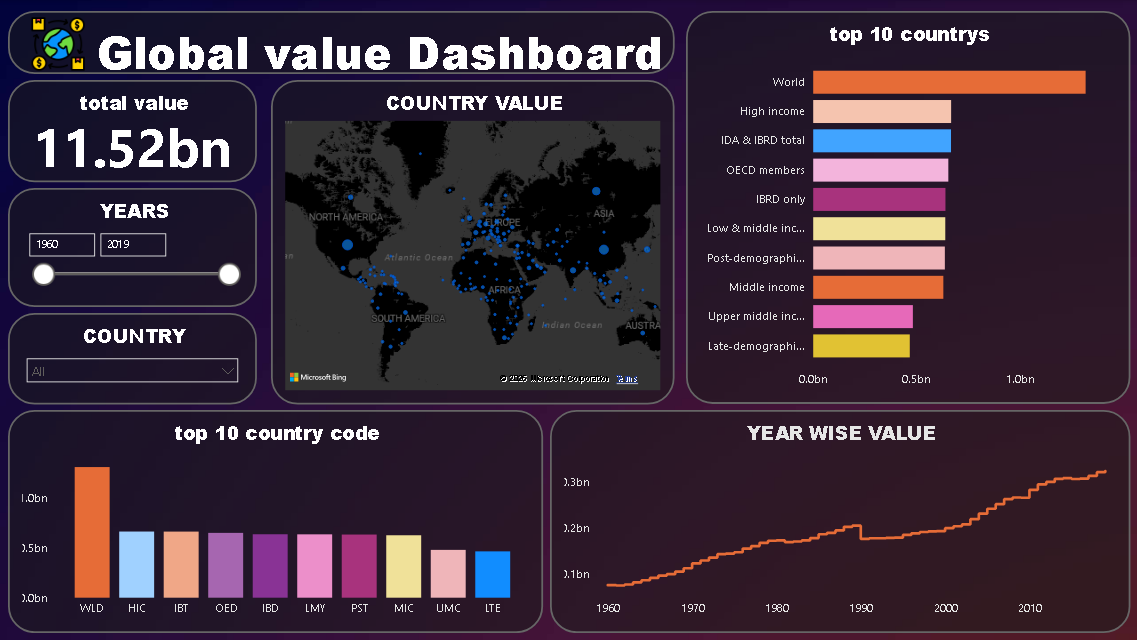

Layout of this report page (visuals, bound fields, positions):
{"tool":"powerbi","page":{"name":"Page 1","canvas":[1280,720],"ordinal":0},"visuals":[{"type":"textbox","title":"Global  value Dashboard","box":[10.2,12.7,749.6,71.4],"z":0},{"type":"slicer","title":"YEARS","fields":{"Values":["globel.year.Variation.Date Hierarchy.Year"]},"box":[10.2,211.6,280.5,133.9],"z":1000},{"type":"slicer","title":"COUNTRY ","fields":{"Values":["globel.country_name"]},"box":[10.2,351.9,280.5,103.3],"z":2000},{"type":"card","title":"total value","fields":{"Values":["Sum(globel.value)"]},"box":[10.2,90.5,280.5,114.7],"z":3000},{"type":"lineChart","title":"YEAR WISE VALUE","fields":{"Y":["Sum(globel.value)"],"Category":["globel.year.Variation.Date Hierarchy.Year"]},"box":[619.6,461.5,652.7,251.2],"z":5000},{"type":"clusteredColumnChart","title":"top 10 country code","fields":{"Category":["globel.country_code"],"Y":["Sum(globel.value)"]},"box":[10.2,461.5,601.8,251.2],"z":6000},{"type":"map","title":"COUNTRY VALUE ","fields":{"Category":["globel.country_name"],"Size":["Sum(globel.value)"]},"box":[306,90.5,453.9,364.6],"z":7000},{"type":"image","box":[31.9,14,70.1,71.4],"z":7001},{"type":"barChart","title":"top 10 countrys","fields":{"Category":["globel.country_name"],"Y":["Sum(globel.value)"]},"box":[772.6,12.7,499.8,442.4],"z":7002}]}

Visuals, with their boxes in screenshot pixels (x1, y1, x2, y2), scaled from the page's 1280x720 canvas onto the 1137x640 screenshot:
"Global  value Dashboard" textbox: left=9, top=11, right=675, bottom=75
"YEARS" slicer: left=9, top=188, right=258, bottom=307
"COUNTRY " slicer: left=9, top=313, right=258, bottom=405
"total value" card: left=9, top=80, right=258, bottom=182
"YEAR WISE VALUE" lineChart: left=550, top=410, right=1130, bottom=634
"top 10 country code" clusteredColumnChart: left=9, top=410, right=544, bottom=634
"COUNTRY VALUE " map: left=272, top=80, right=675, bottom=405
image: left=28, top=12, right=91, bottom=76
"top 10 countrys" barChart: left=686, top=11, right=1130, bottom=405
